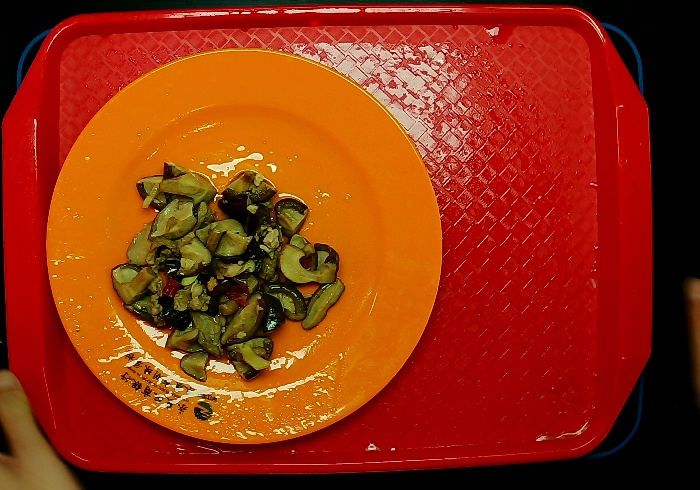YKMZ-Ju_Se_Mian_Pan: (45, 49, 443, 445)
